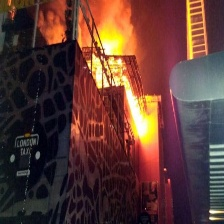fire: (94, 32, 155, 146)
smoke: (38, 1, 160, 47)
